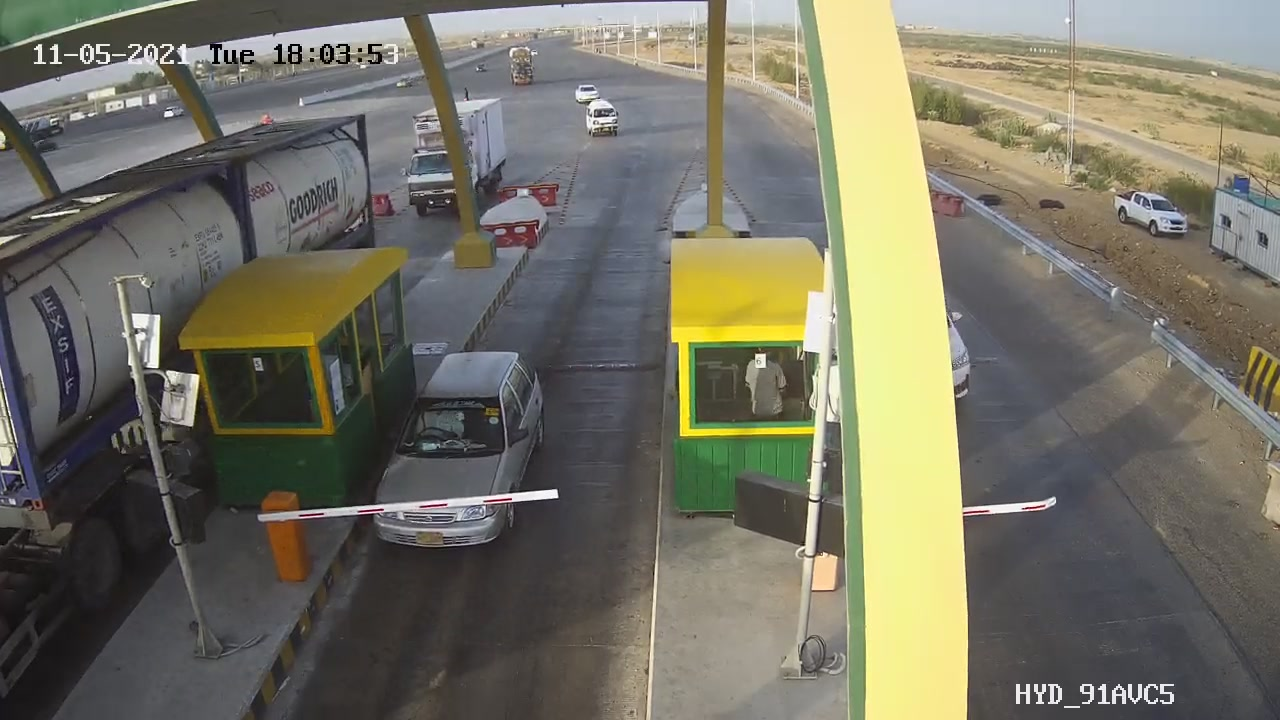F1: (352, 325, 573, 575)
